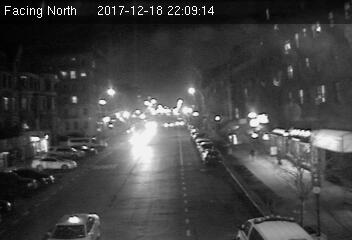car: (202, 150, 223, 166)
police: (234, 214, 309, 240)
